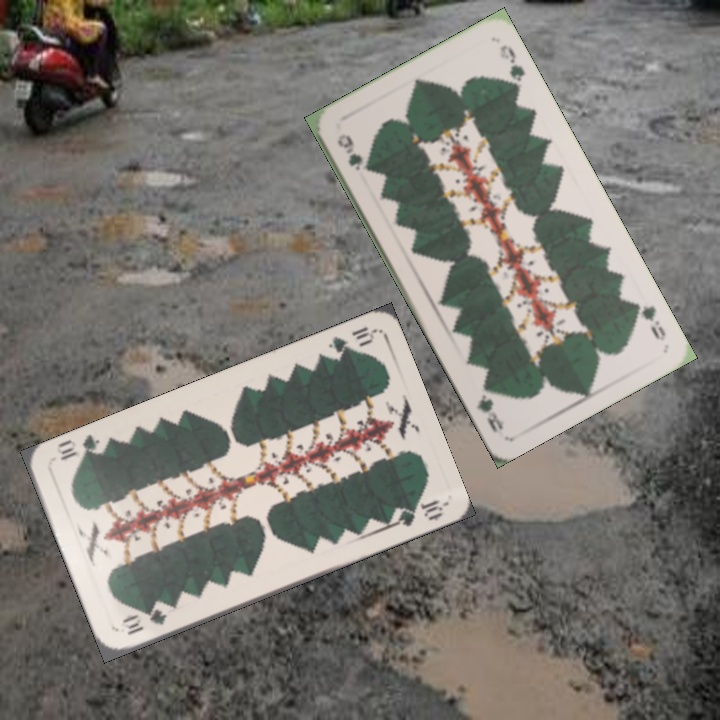G10: (321, 322, 377, 363), (117, 605, 170, 638)
G9: (626, 297, 669, 344), (333, 129, 366, 174)
